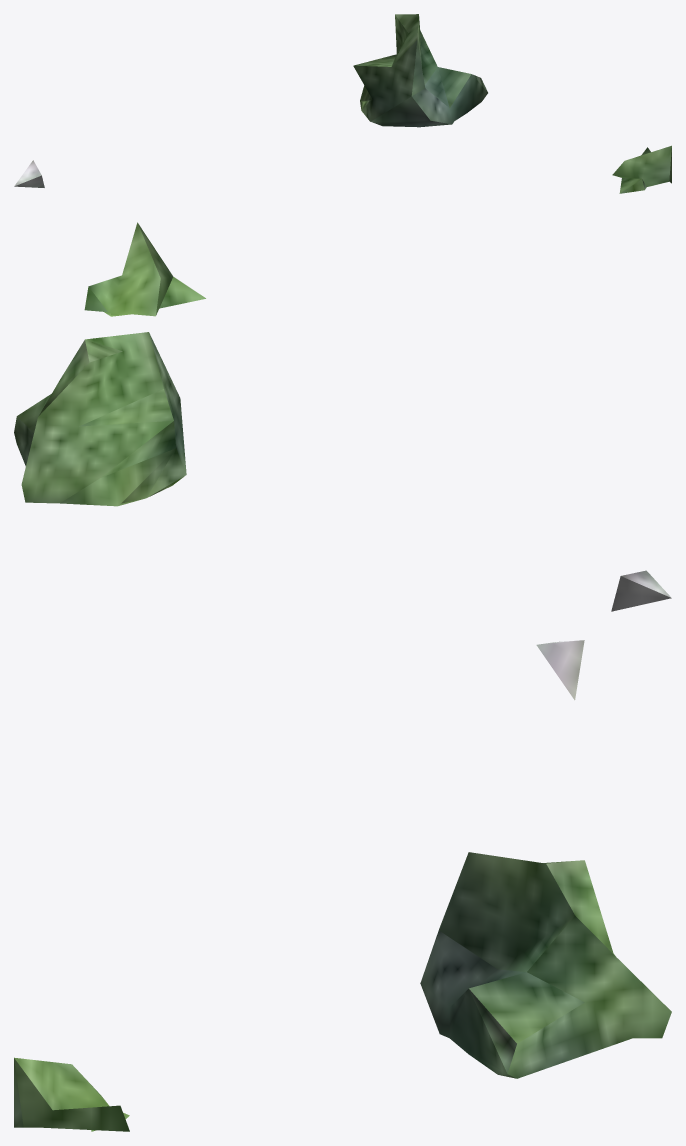
3 views of the same model, one above another, from view 1: azimuth 30°, elevation 25°; view 2: azimuth 150°, elevation 25°; view 3: azimuth 270°, elevation 25° (orthographic). The views are drawn at different scales.
Parts seen in each view (by area): view 1: 30436272704370636415_0; view 2: 30436272704370636415_0; view 3: 30436272704370636415_0.
Boxes of the visible parts, <box> form: 30436272704370636415_0: <box>14,14,671,193</box>; 30436272704370636415_0: <box>14,222,671,611</box>; 30436272704370636415_0: <box>14,640,671,1131</box>.
Bounding box in the file's own units: 17.49 × 2.93 × 10.49.
1 material, 1 textured.
